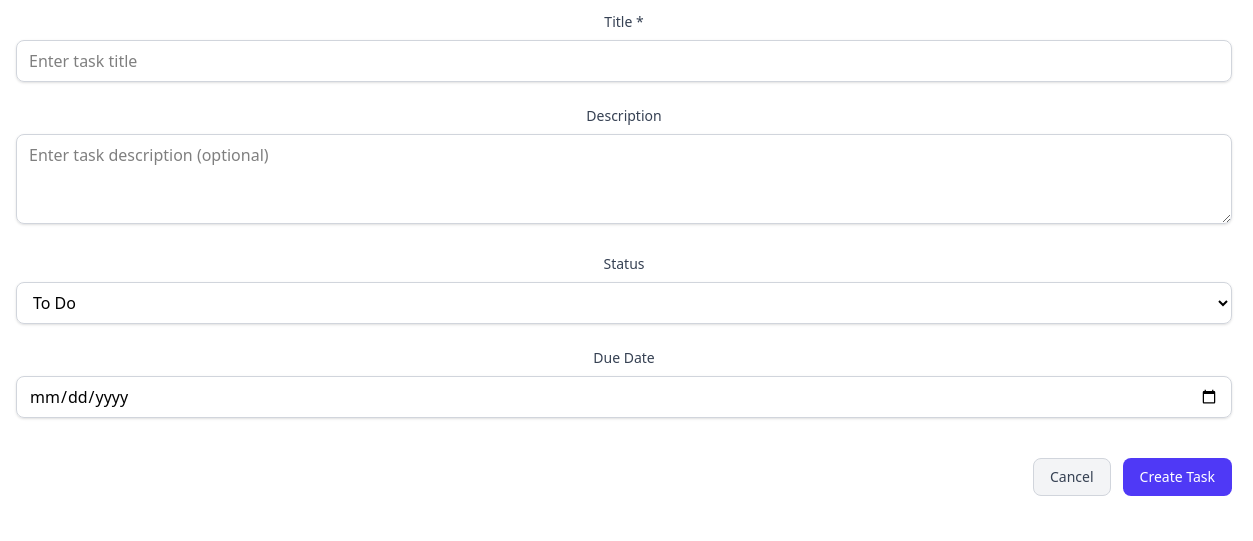
Scenario: TaskForm › Create mode › should not submit form with empty title
Step 1. Click the button "Create Task" → [1177, 477], box [1123,458,1232,496]
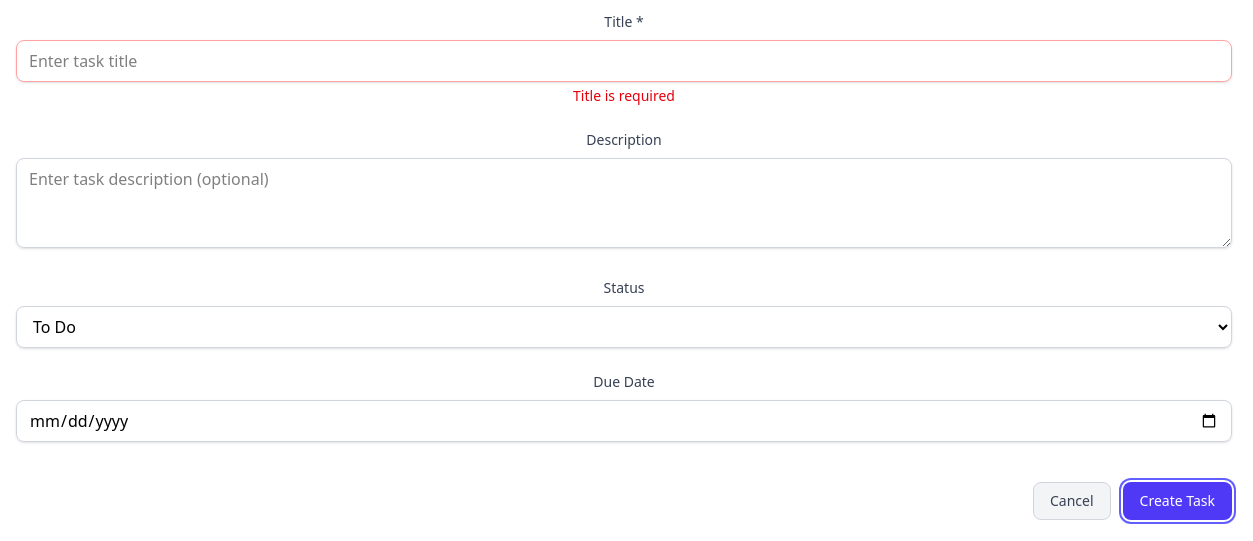
Expected: the text "Title is required" is shown, [573,86,675,105]
